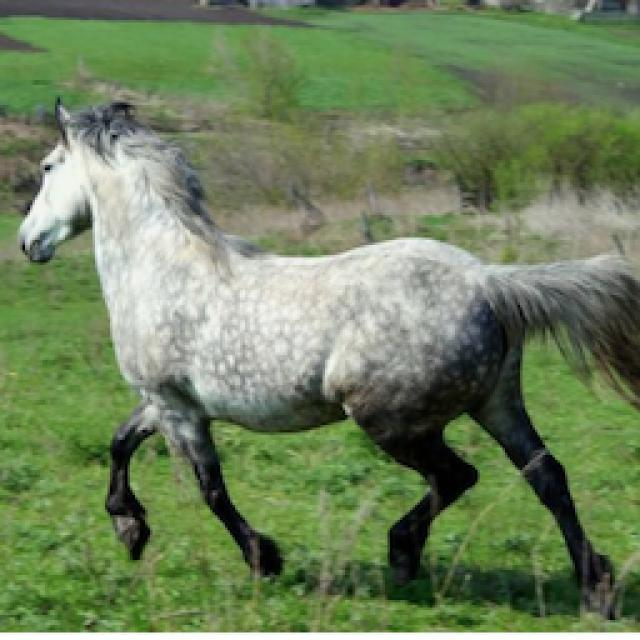Horse: (10, 90, 638, 618)
